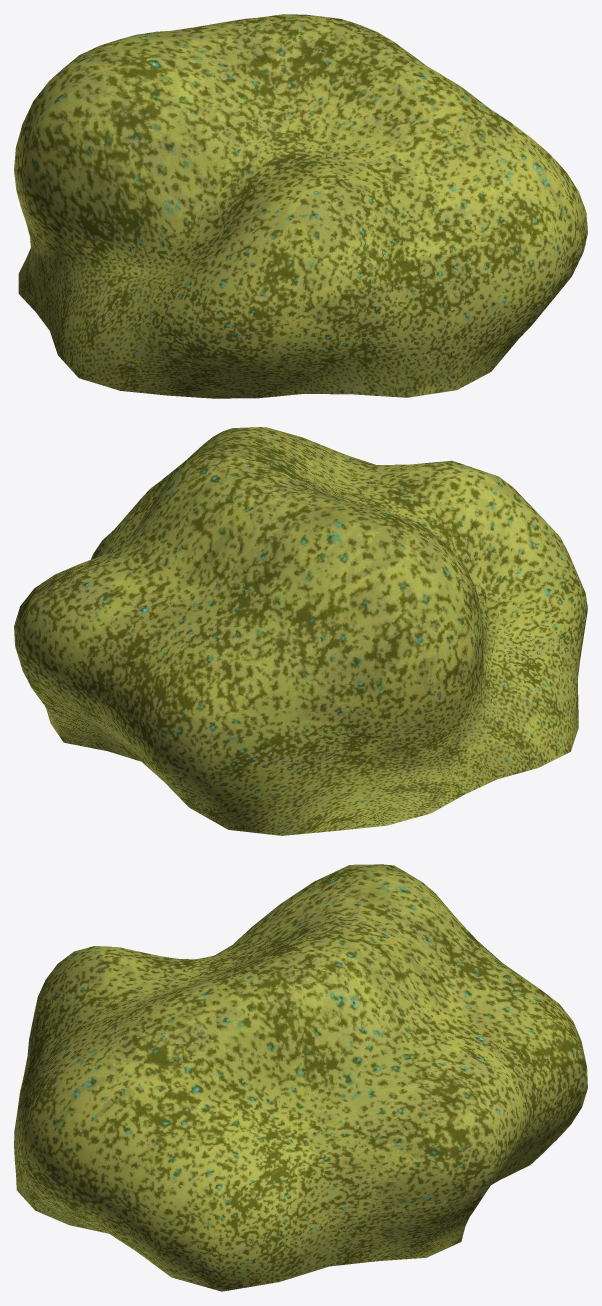
The model's file is 07-BLD.fbx.
3 views of the same model, one above another, from view 1: azimuth 30°, elevation 25°; view 2: azimuth 150°, elevation 25°; view 3: azimuth 270°, elevation 25° (orthographic).
Parts seen in each view (by area): view 1: 07-BLD_LOD00; view 2: 07-BLD_LOD00; view 3: 07-BLD_LOD00.
Part boxes in pixels (bbox=[...]): 07-BLD_LOD00: bbox=[14, 14, 587, 398]; 07-BLD_LOD00: bbox=[14, 427, 587, 835]; 07-BLD_LOD00: bbox=[14, 864, 587, 1291].
Size of what is drawn, in the model's own units: 176 by 88.39 by 181.
